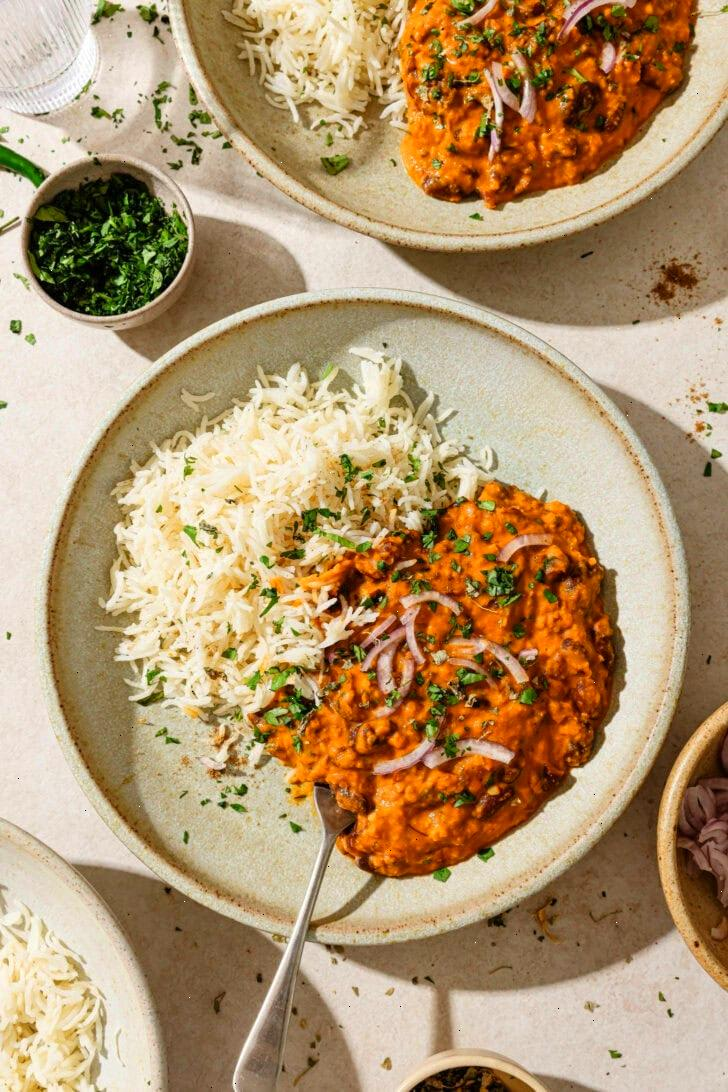rajma: (355, 563, 620, 850)
rice: (115, 390, 327, 645)
